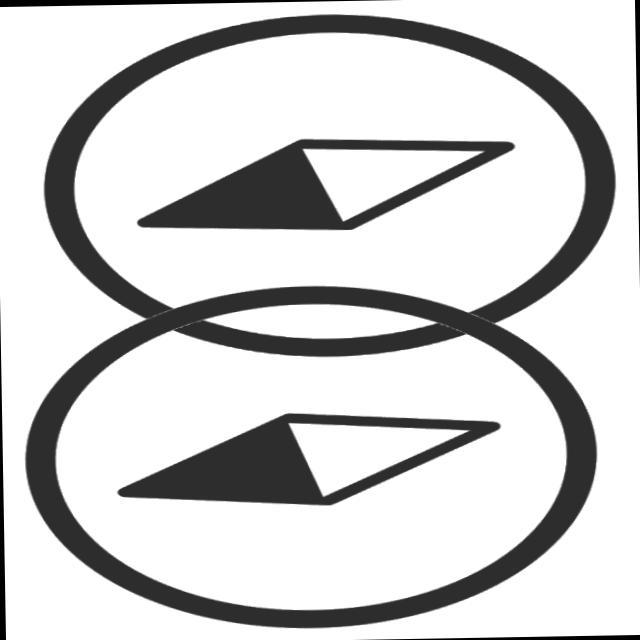compass: (33, 5, 633, 383), (16, 274, 612, 638)
